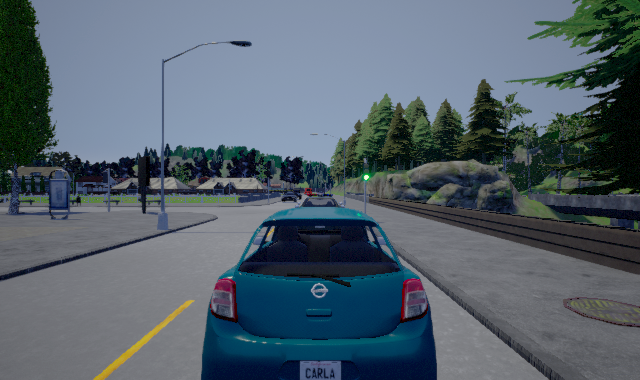traffic_light: (363, 159, 369, 184)
vehicle: (201, 205, 439, 380)
